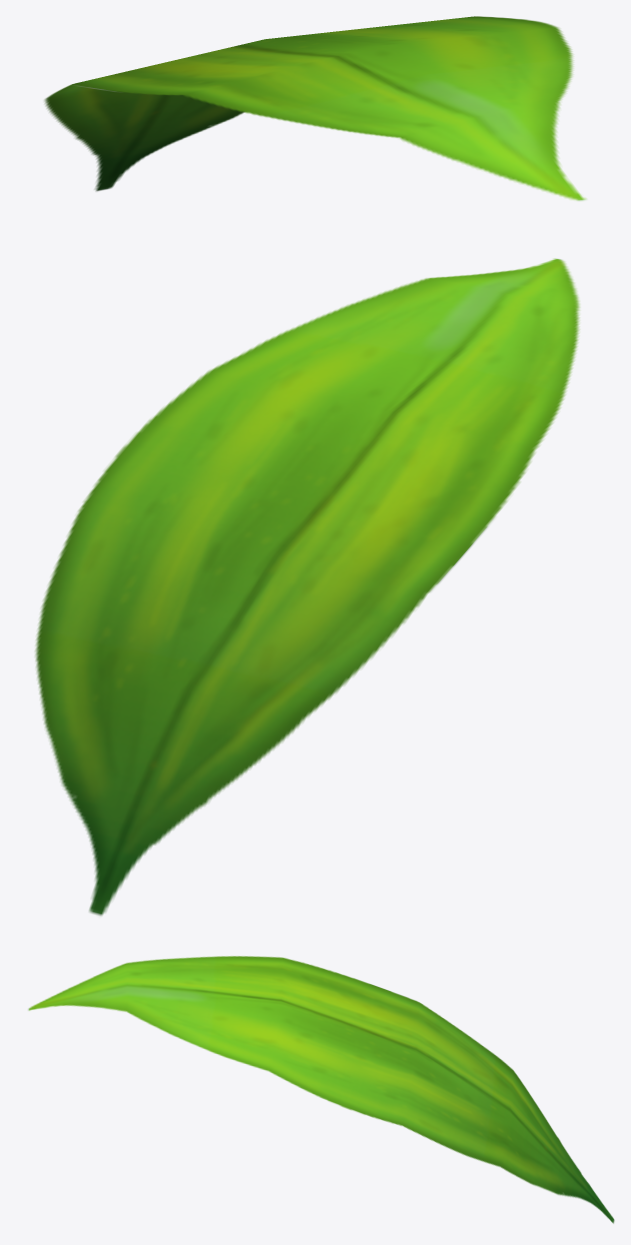
The model's file is PLeaf1.glb.
3 renders of one model, top to bottom at view 1: azimuth 30°, elevation 25°; view 2: azimuth 150°, elevation 25°; view 3: azimuth 270°, elevation 25°, orthographic. The views are drawn at different scales.
Parts seen in each view (by area): view 1: PLeaf1; view 2: PLeaf1; view 3: PLeaf1.
Boxes of the visible parts, box(x1,y1,x2,y2) form: PLeaf1: box(44, 16, 586, 201); PLeaf1: box(35, 258, 579, 916); PLeaf1: box(27, 956, 614, 1223).
Size of the model in its own units: 0.6724 by 0.5776 by 1.38.
1 material, 1 textured.
